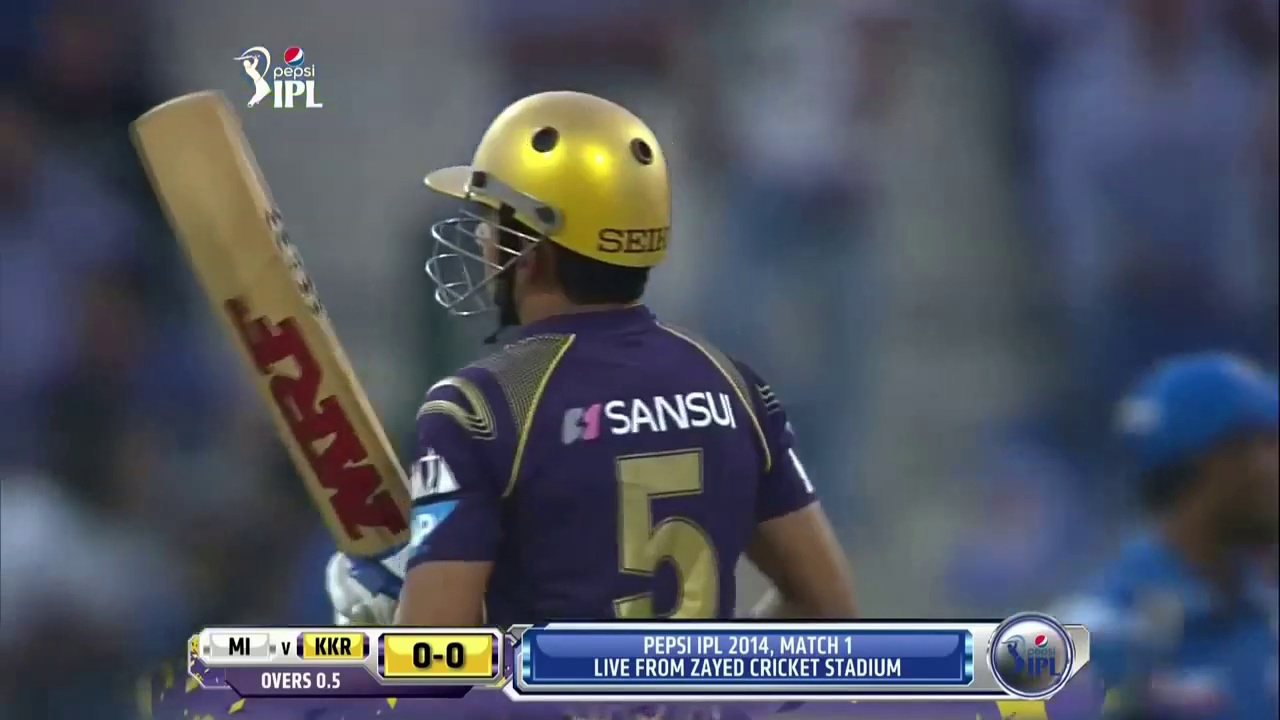bat: (129, 113, 411, 477)
